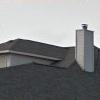Chimney: (70, 20, 100, 74)
